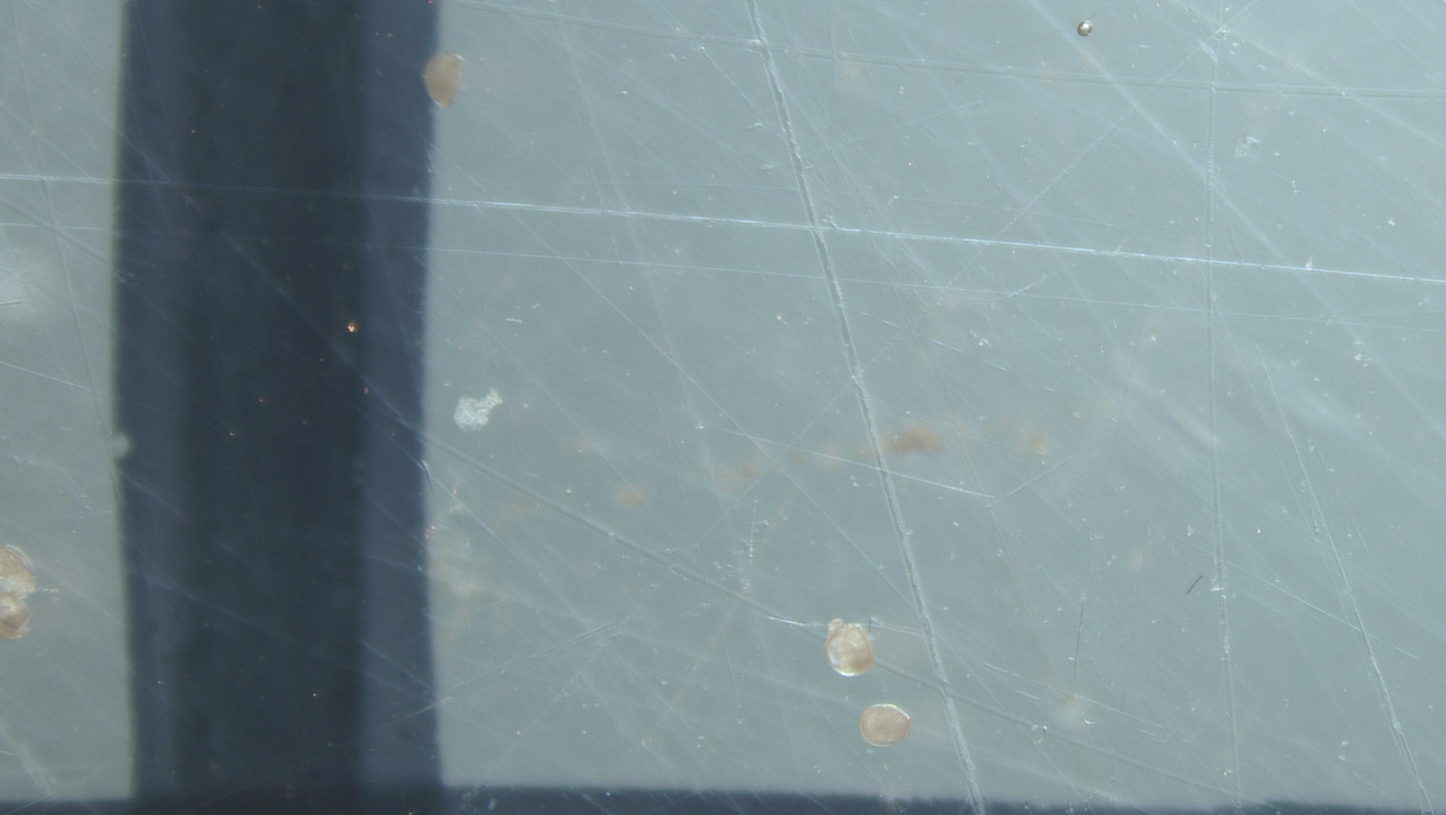live: (824, 619, 875, 677), (859, 704, 910, 747)
